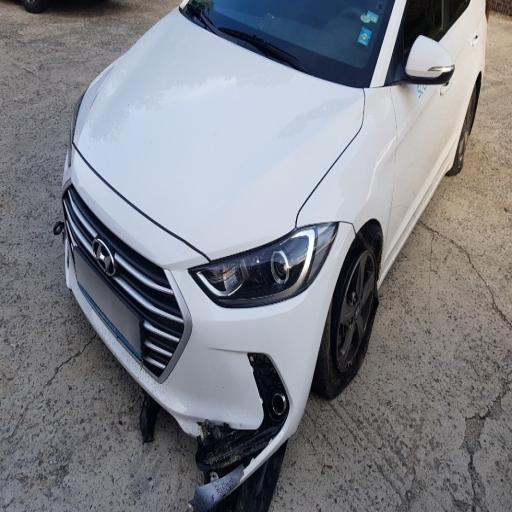broken: (168, 315, 297, 490)
scratch: (302, 103, 344, 156)
